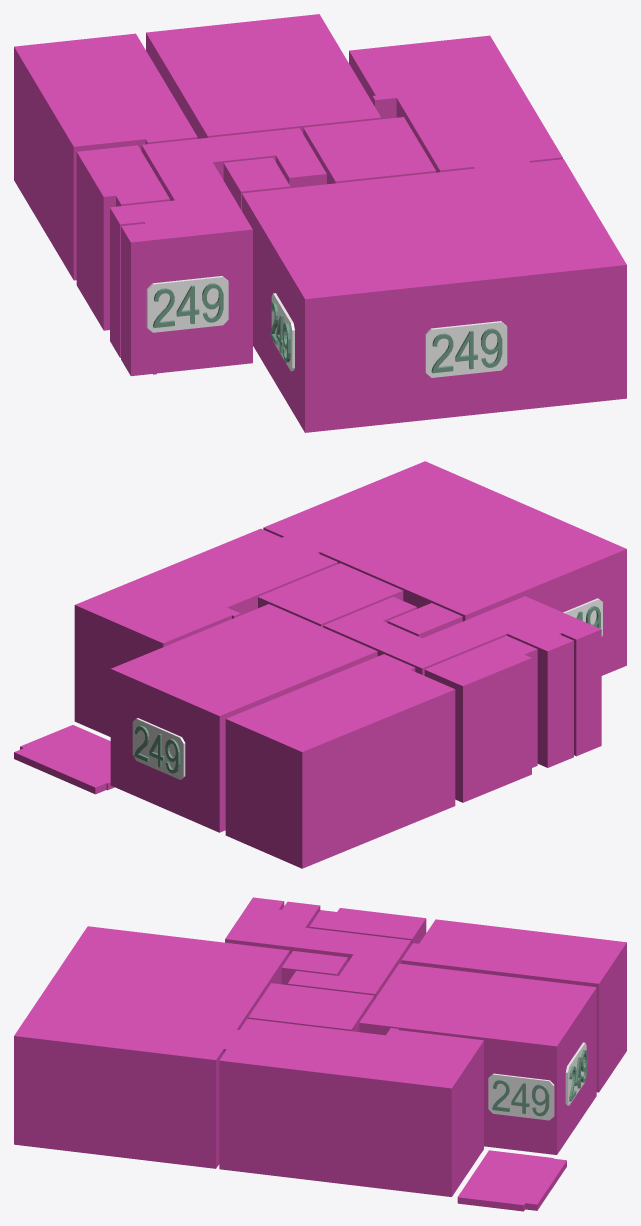
The picture shows the model from 3 angles, top to bottom: view 1: azimuth 30°, elevation 25°; view 2: azimuth 150°, elevation 25°; view 3: azimuth 270°, elevation 25°; orthographic projection. The views are drawn at different scales.
Parts seen in each view (by area): view 1: g_7, g_3, g_1, g_0, g_6, g_2, g_4, g_20, g_12, g_5, g_28; view 2: g_1, g_7, g_0, g_6, g_3, g_2, g_4, g_8, g_24, g_5; view 3: g_7, g_6, g_0, g_1, g_3, g_8, g_4, g_2, g_16, g_5, g_24.
Boxes of the visible parts, <box> form: g_7: <box>242,159,626,432</box>; g_3: <box>110,128,326,376</box>; g_1: <box>14,33,197,280</box>; g_0: <box>146,14,381,138</box>; g_6: <box>349,35,562,172</box>; g_2: <box>76,145,169,330</box>; g_4: <box>303,117,436,184</box>; g_20: <box>425,321,507,377</box>; g_12: <box>146,276,228,332</box>; g_5: <box>223,157,290,210</box>; g_28: <box>271,293,294,371</box>; g_1: <box>225,654,455,868</box>; g_7: <box>263,461,626,675</box>; g_0: <box>110,604,377,832</box>; g_6: <box>74,528,337,736</box>; g_3: <box>323,596,601,767</box>; g_2: <box>424,636,537,802</box>; g_4: <box>258,563,403,627</box>; g_8: <box>14,725,114,794</box>; g_24: <box>132,718,185,779</box>; g_5: <box>387,603,462,638</box>; g_7: <box>14,926,289,1168</box>; g_6: <box>219,1018,483,1196</box>; g_0: <box>359,963,596,1154</box>; g_1: <box>401,919,626,1092</box>; g_3: <box>225,897,411,999</box>; g_8: <box>457,1150,566,1211</box>; g_4: <box>248,983,374,1031</box>; g_2: <box>309,908,426,944</box>; g_16: <box>488,1073,554,1120</box>; g_5: <box>281,951,347,984</box>; g_24: <box>565,1042,586,1105</box>.
Size of the model in its own units: 10.08 by 2.74 by 13.16.
